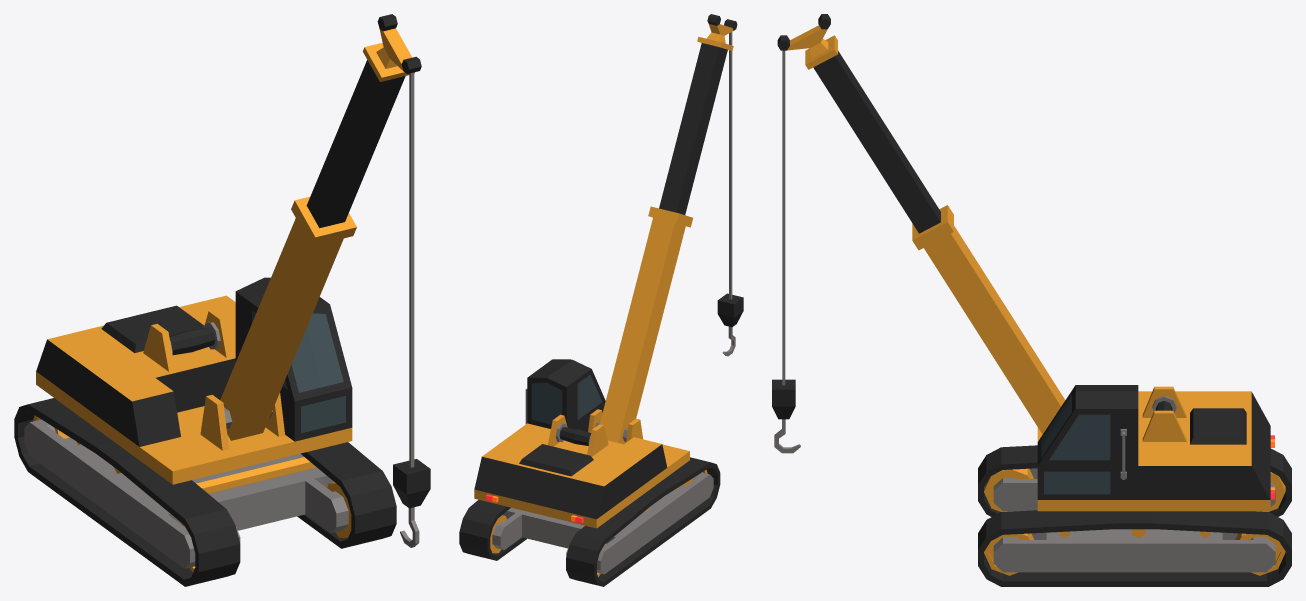
The model's file is vehicles_crane-crawler.fbx.
The picture shows the model from 3 angles, left to right: view 1: azimuth 30°, elevation 25°; view 2: azimuth 150°, elevation 25°; view 3: azimuth 270°, elevation 25°; orthographic projection. The views are drawn at different scales.
Parts seen in each view (by area): view 1: crane_crawler_base, crane_crawler_arm, crane_crawler_belt, crane_crawler_chassis, crane_crawler_hook, crane_crawler_wheel_TF; view 2: crane_crawler_base, crane_crawler_arm, crane_crawler_belt, crane_crawler_chassis, crane_crawler_hook; view 3: crane_crawler_base, crane_crawler_arm, crane_crawler_belt, crane_crawler_chassis, crane_crawler_hook, crane_crawler_wheel_F, crane_crawler_wheel_B.
Boxes of the visible parts, x1,y1,x2,y2 form: crane_crawler_base: (36, 277, 352, 484); crane_crawler_arm: (220, 14, 421, 440); crane_crawler_belt: (14, 398, 396, 586); crane_crawler_chassis: (24, 419, 348, 568); crane_crawler_hook: (393, 72, 430, 547); crane_crawler_wheel_TF: (196, 457, 316, 493); crane_crawler_base: (474, 359, 689, 528); crane_crawler_arm: (595, 14, 737, 444); crane_crawler_belt: (459, 457, 720, 586); crane_crawler_chassis: (492, 472, 713, 574); crane_crawler_hook: (717, 32, 743, 356); crane_crawler_base: (1037, 385, 1274, 511); crane_crawler_arm: (777, 14, 1065, 434); crane_crawler_belt: (978, 445, 1291, 586); crane_crawler_chassis: (993, 468, 1275, 572); crane_crawler_hook: (772, 50, 800, 453); crane_crawler_wheel_F: (984, 468, 1033, 575); crane_crawler_wheel_B: (1235, 472, 1285, 575).
Size of the model in its own units: 66.5 by 199 by 177.
